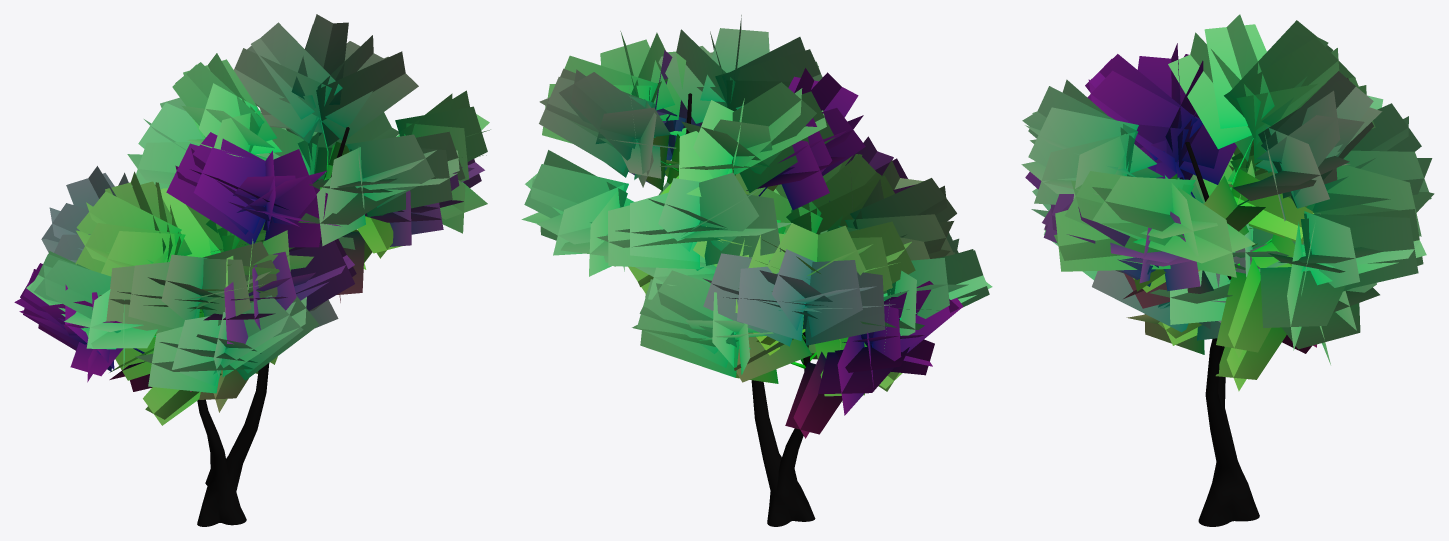
File: Tree_3_9.fbx
3 renders of one model, left to right at view 1: azimuth 30°, elevation 25°; view 2: azimuth 150°, elevation 25°; view 3: azimuth 270°, elevation 25°, orthographic. The views are drawn at different scales.
Visible parts, largest first — view 1: _9; view 2: _9; view 3: _9.
Boxes of the visible parts, x1,y1,x2,y2 form: _9: (14, 14, 490, 526); _9: (521, 15, 992, 526); _9: (1021, 14, 1434, 526).
Bounding box in the file's own units: 2361 × 2313 × 1709.
